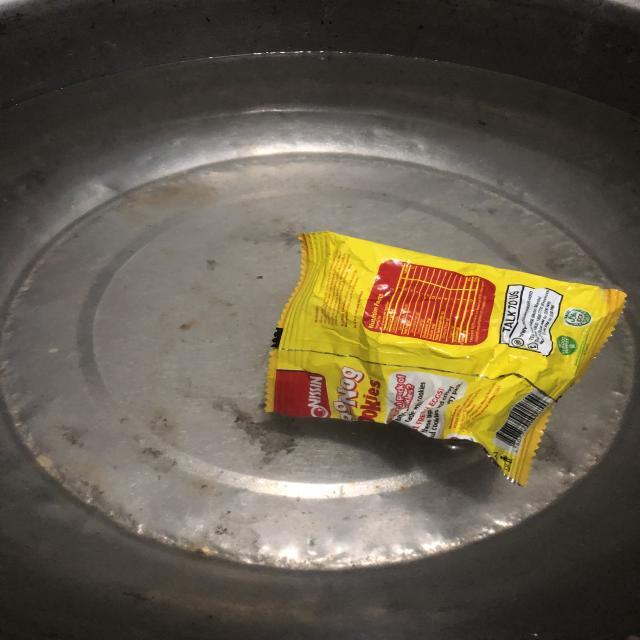Plastic Wrapper: (257, 211, 619, 490)
